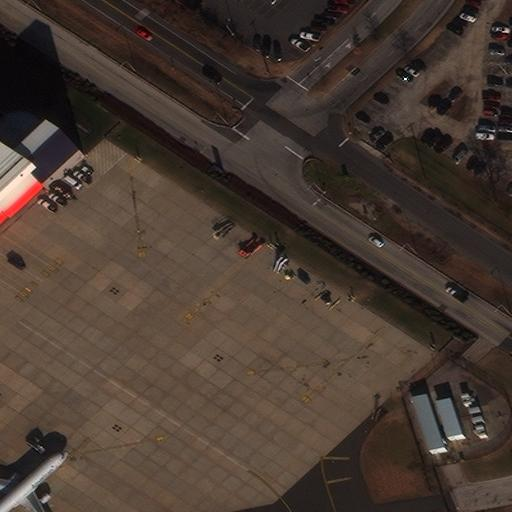Medium Civil Transport: (0, 450, 68, 512)
